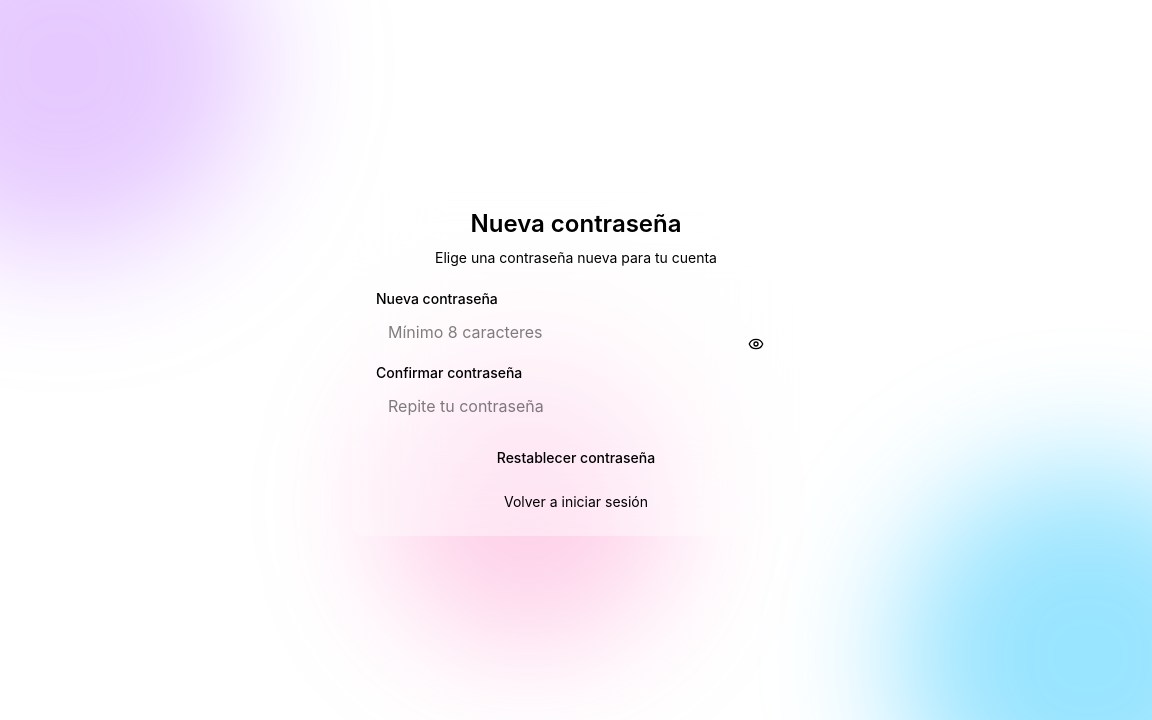
ResetPasswordPage › surfaces an expired/invalid token error from the API
Type "newpassword123" into the password field labelled "Nueva contraseña".
click(576, 332); type("newpassword123")  # box [376, 314, 776, 350]
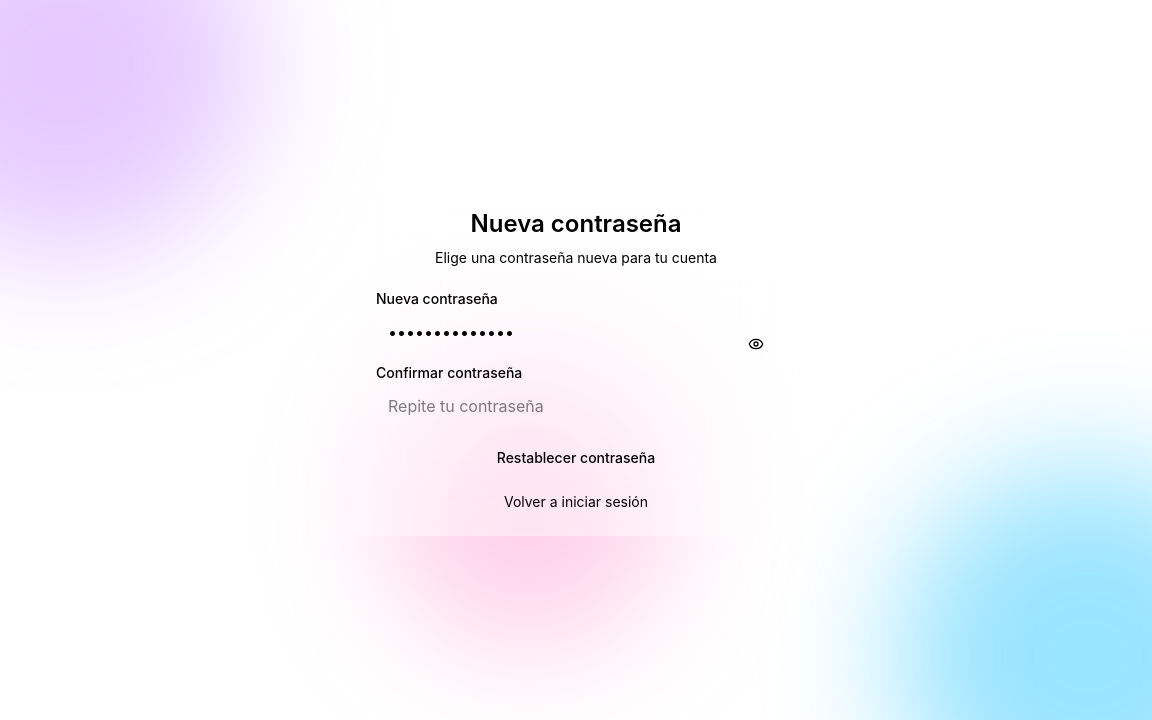
Type "newpassword123" into the password field labelled "Confirmar contraseña".
click(576, 406); type("newpassword123")  # box [376, 388, 776, 424]
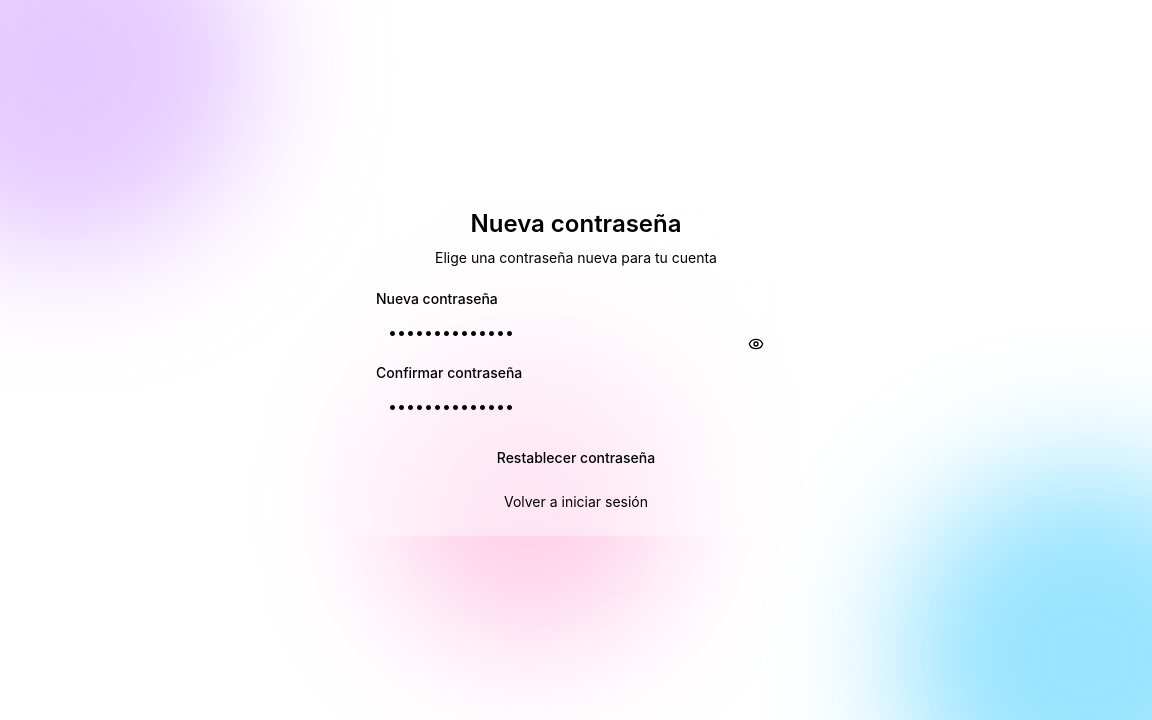
Click the button "Restablecer contraseña".
click(576, 458)  # box [376, 440, 776, 476]
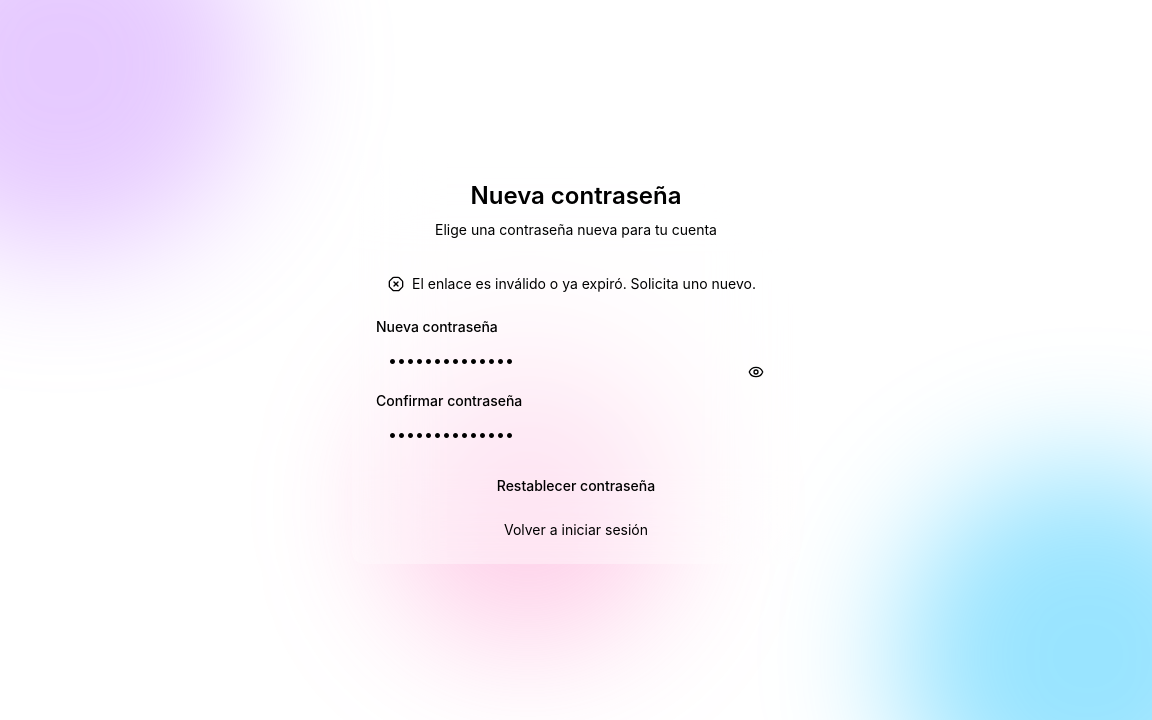
Check: the text "El enlace es inválido o ya expiró. Solicita uno nuevo." is shown, box [412, 274, 756, 294]
